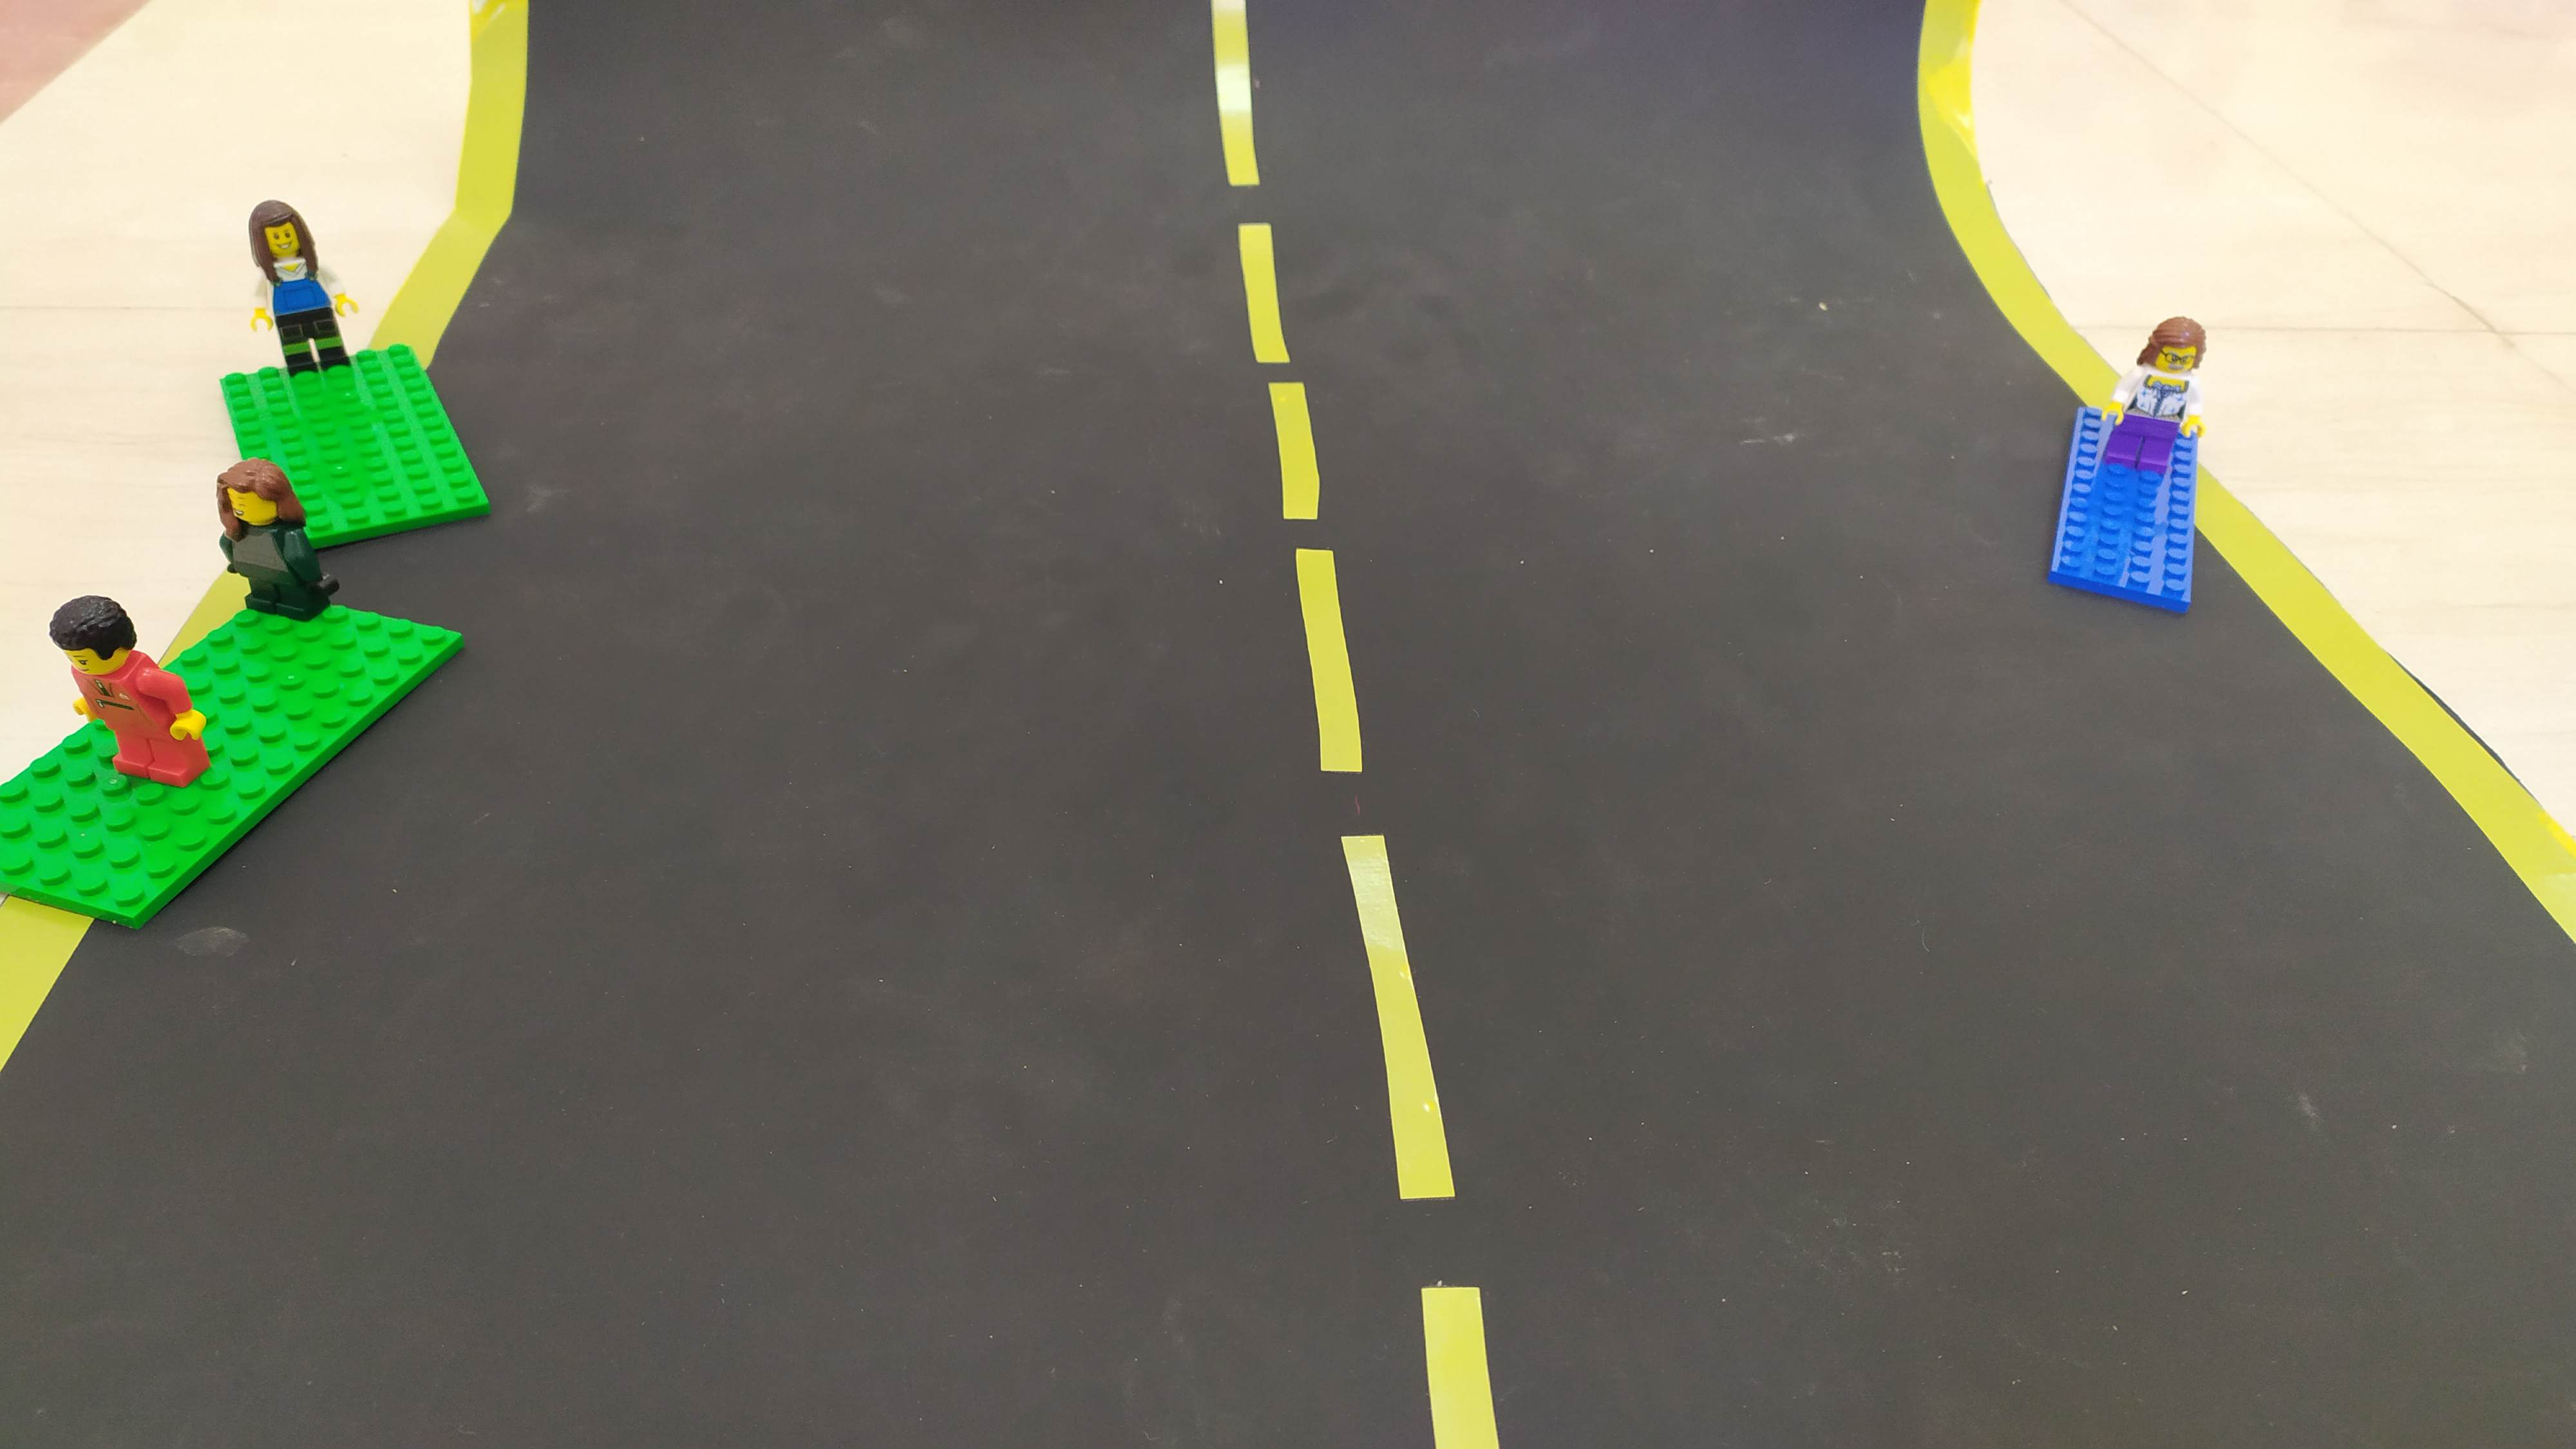Person: (55, 570, 177, 789), (2083, 312, 2225, 499), (229, 460, 325, 641), (248, 177, 338, 364)
